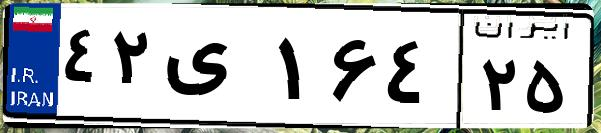1: (270, 28, 330, 110)
2: (475, 38, 525, 113), (110, 28, 158, 98)
4: (385, 28, 445, 110), (57, 26, 110, 100)
5: (525, 38, 570, 115)
6: (330, 28, 385, 110)
ی: (158, 20, 270, 120)
